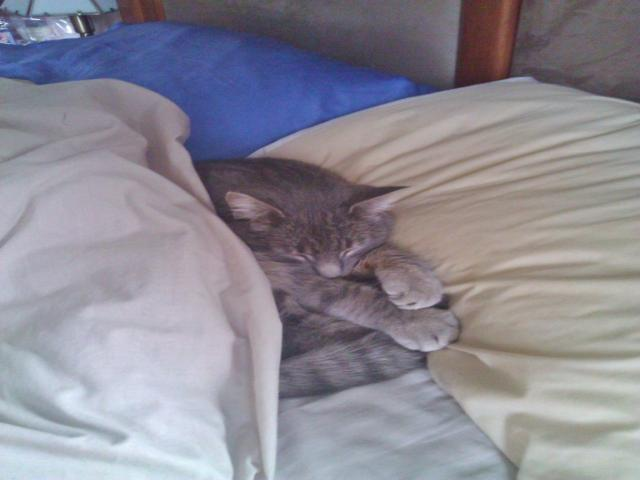Cat: (193, 150, 459, 399)
